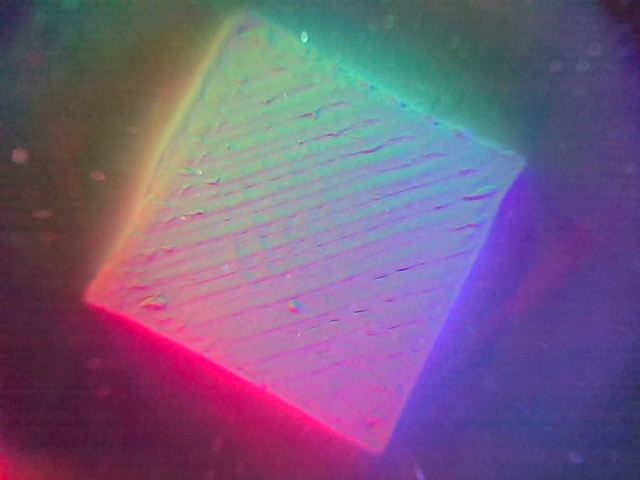contact: (89, 15, 520, 449)
